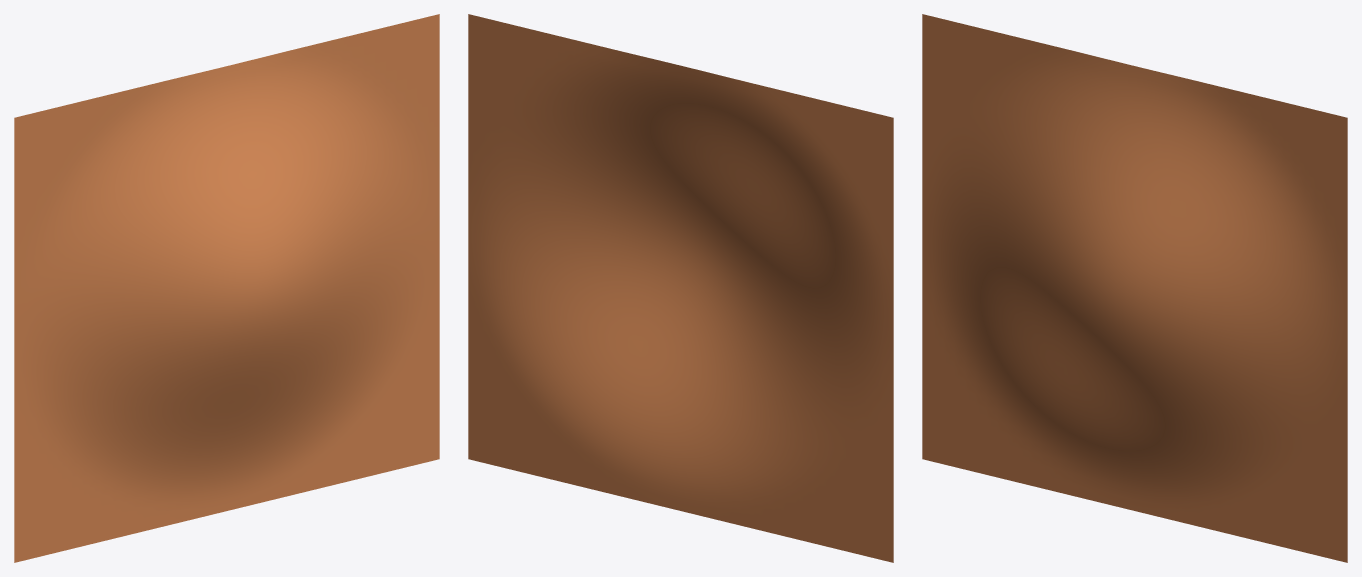
Rendered from water.obj.
3 renders of one model, left to right at view 1: azimuth 30°, elevation 25°; view 2: azimuth 150°, elevation 25°; view 3: azimuth 330°, elevation 25°, orthographic.
Visible parts, largest first — view 1: WaterMesh; view 2: WaterMesh; view 3: WaterMesh.
Boxes of the visible parts, x1,y1,x2,y2 form: WaterMesh: [14, 14, 439, 562]; WaterMesh: [468, 14, 893, 562]; WaterMesh: [922, 14, 1347, 562].
Size of the model in its own units: 200 by 200 by 24.61.
